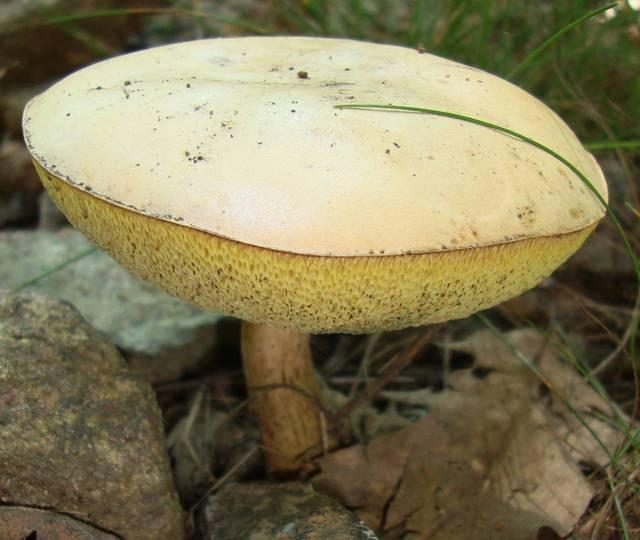edible_mushroom: (20, 33, 610, 478)
